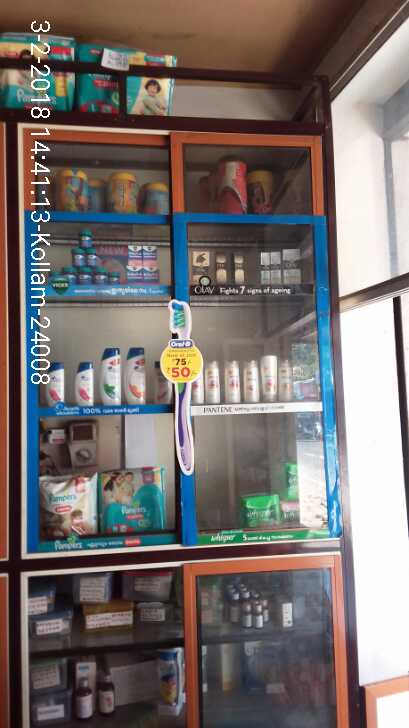vicks: (49, 228, 160, 289)
